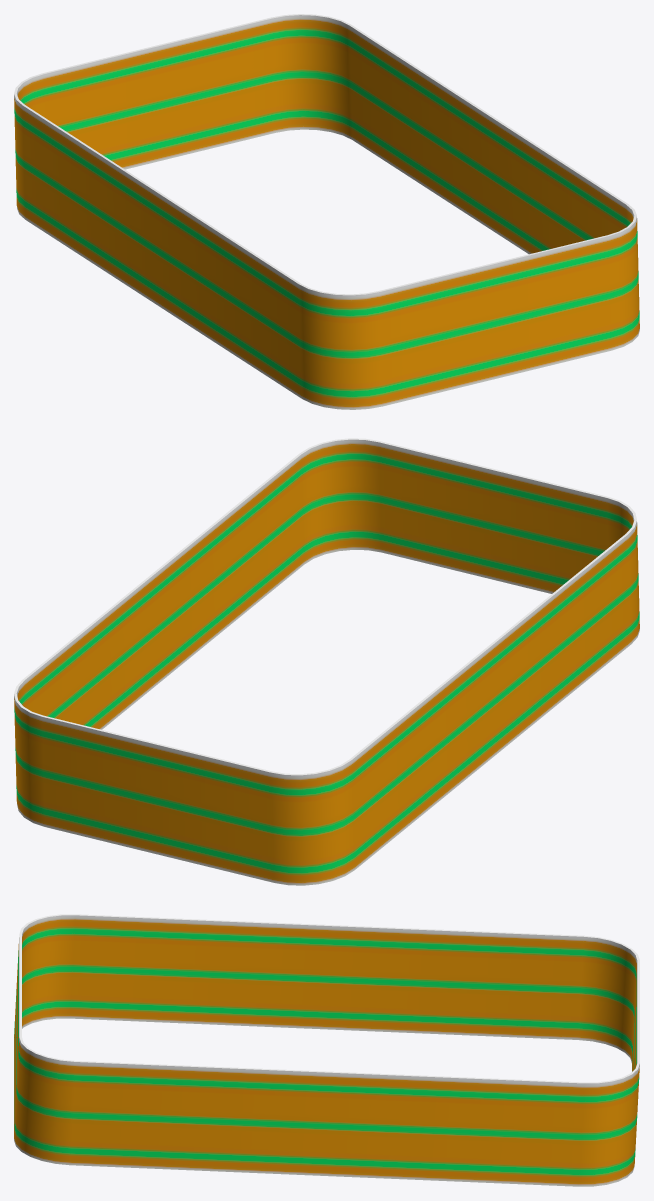
The model's file is parking point 01.FBX.
3 renders of one model, top to bottom at view 1: azimuth 30°, elevation 25°; view 2: azimuth 150°, elevation 25°; view 3: azimuth 270°, elevation 25°, orthographic. The views are drawn at different scales.
Parts seen in each view (by area): view 1: pCube1; view 2: pCube1; view 3: pCube1.
Part boxes in pixels (x1=…): pCube1: x1=14, y1=14, x2=639, y2=409; pCube1: x1=14, y1=438, x2=639, y2=885; pCube1: x1=14, y1=914, x2=639, y2=1186.
Bounding box in the file's own units: 2.53 × 1.03 × 4.53.
Materials: 1 (1 with a texture image).
